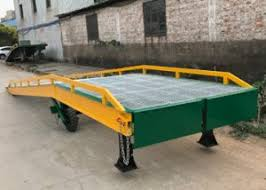Yard Ramp: (5, 65, 260, 171)
